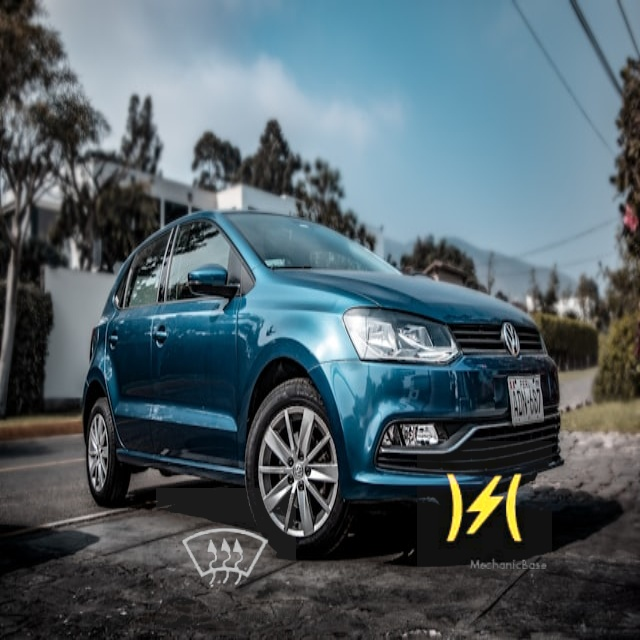symbol: (156, 488, 296, 628), (417, 441, 552, 576)
